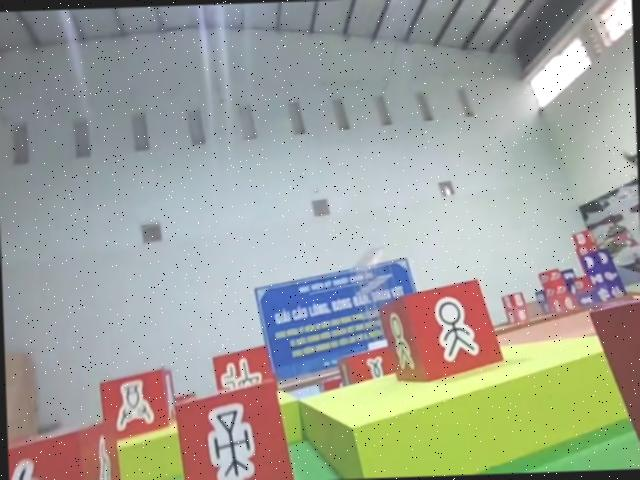R2 Real: (374, 276, 505, 387), (170, 375, 296, 480), (5, 413, 123, 480), (96, 363, 178, 442), (208, 339, 280, 405)
